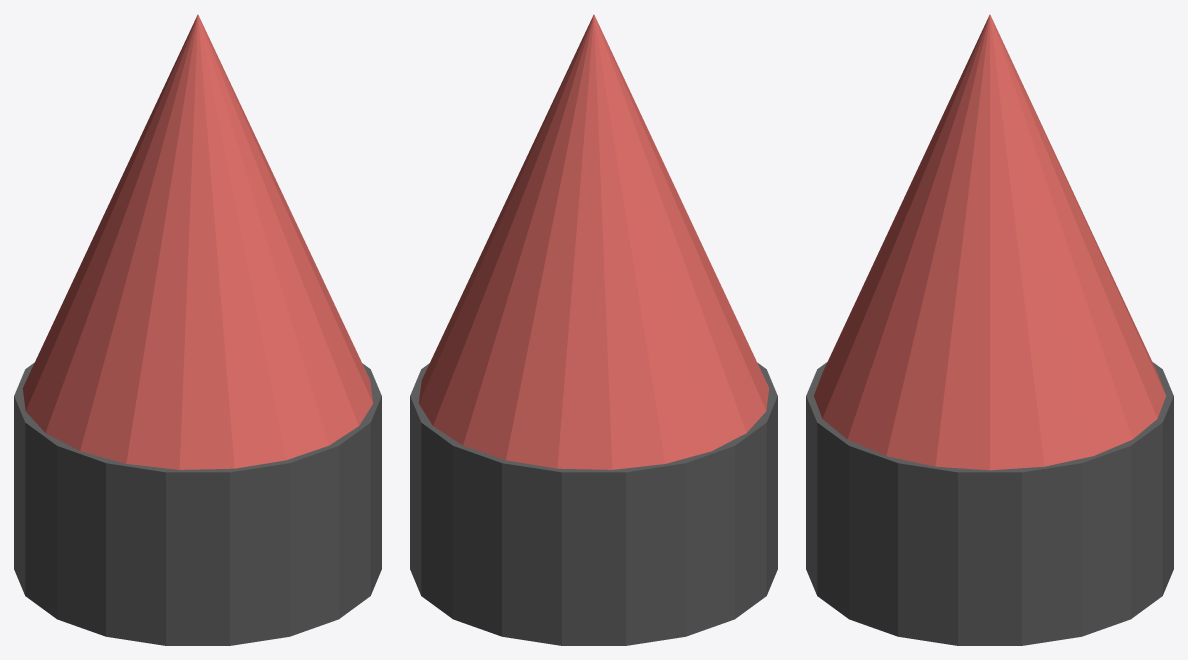
File: tee_marker_red.glb
3 views of the same model, side by side, from view 1: azimuth 30°, elevation 25°; view 2: azimuth 150°, elevation 25°; view 3: azimuth 270°, elevation 25° (orthographic).
Visible parts, largest first — view 1: TeeMarkerRed; view 2: TeeMarkerRed; view 3: TeeMarkerRed.
Part boxes in pixels (x1,y1,x2,y2): TeeMarkerRed: (14, 14, 381, 645); TeeMarkerRed: (410, 14, 777, 645); TeeMarkerRed: (806, 14, 1173, 645).
Size of the model in its own units: 0.0945 by 0.16 by 0.096.
